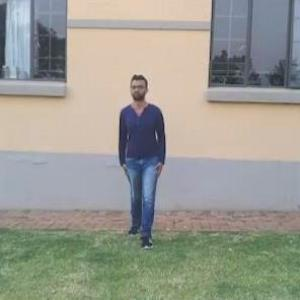follow: (110, 60, 174, 268)
